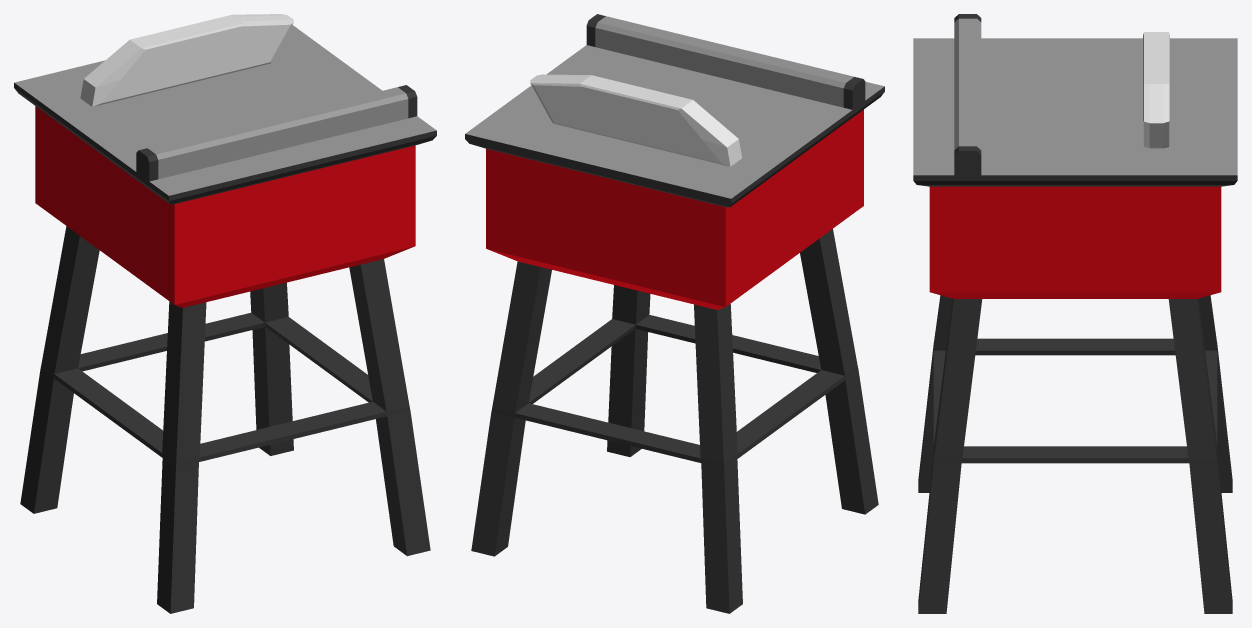
File: Table Saw.fbx
The picture shows the model from 3 angles, left to right: view 1: azimuth 30°, elevation 25°; view 2: azimuth 150°, elevation 25°; view 3: azimuth 270°, elevation 25°; orthographic projection. The views are drawn at different scales.
Parts seen in each view (by area): view 1: Bench V2, Guard, Guide; view 2: Bench V2, Guard, Guide; view 3: Bench V2, Guide, Guard.
Part boxes in pixels (x1=…): Bench V2: x1=14, y1=25, x2=436, y2=613; Guard: x1=80, y1=14, x2=293, y2=106; Guide: x1=136, y1=85, x2=417, y2=181; Bench V2: x1=465, y1=45, x2=884, y2=613; Guard: x1=530, y1=74, x2=741, y2=166; Guide: x1=586, y1=14, x2=865, y2=109; Bench V2: x1=913, y1=38, x2=1237, y2=613; Guide: x1=954, y1=14, x2=981, y2=175; Guard: x1=1143, y1=32, x2=1169, y2=148.
Bounding box in the file's own units: 60.96 × 102 × 60.96.
